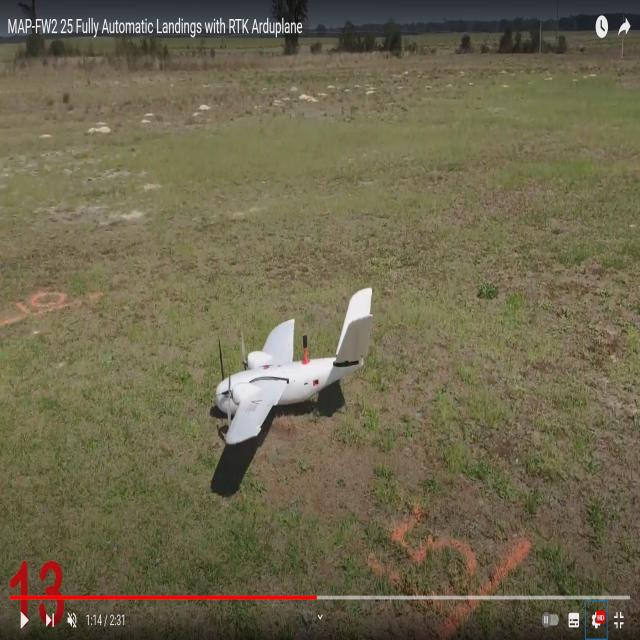iha: (208, 284, 381, 495)
